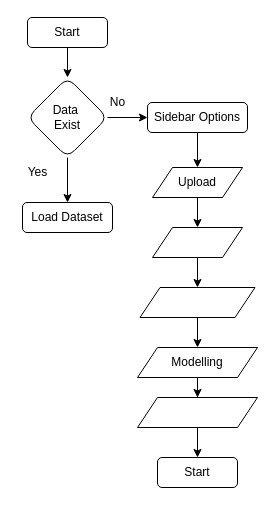
Image size: 275x505. Some labels were removed from this diagram. The shapes that lost their labels are listed below. From the top down, each one's centre as x and y in pixels, then its label:
(197,242): Profiling
(197,302): Visualization
(197,412): Download
